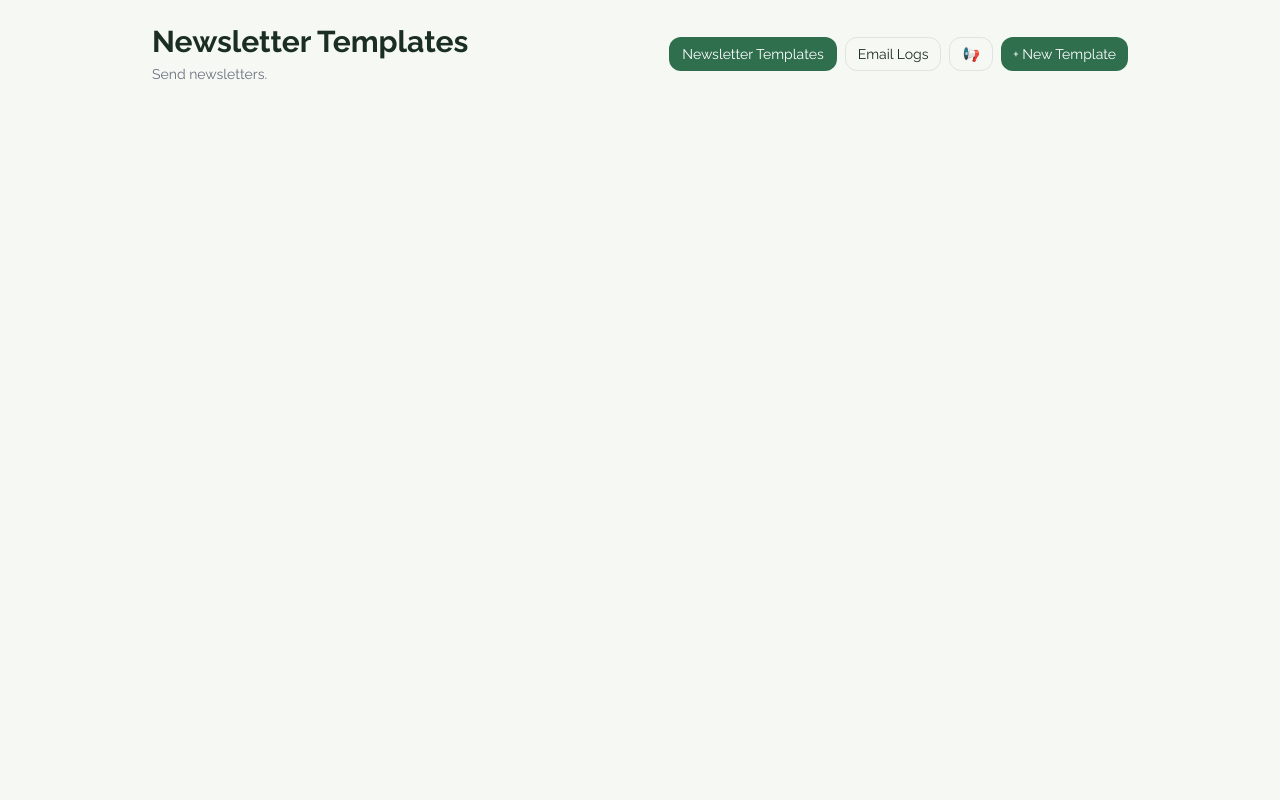
Test: NewsletterPage (template UI) › adds a heading content block when + Heading is clicked in editor
This screenshot has width=1280, height=800.
Step 1. Click the button with test id "new-template-btn" → [1064, 54], box [1001,37,1128,71]
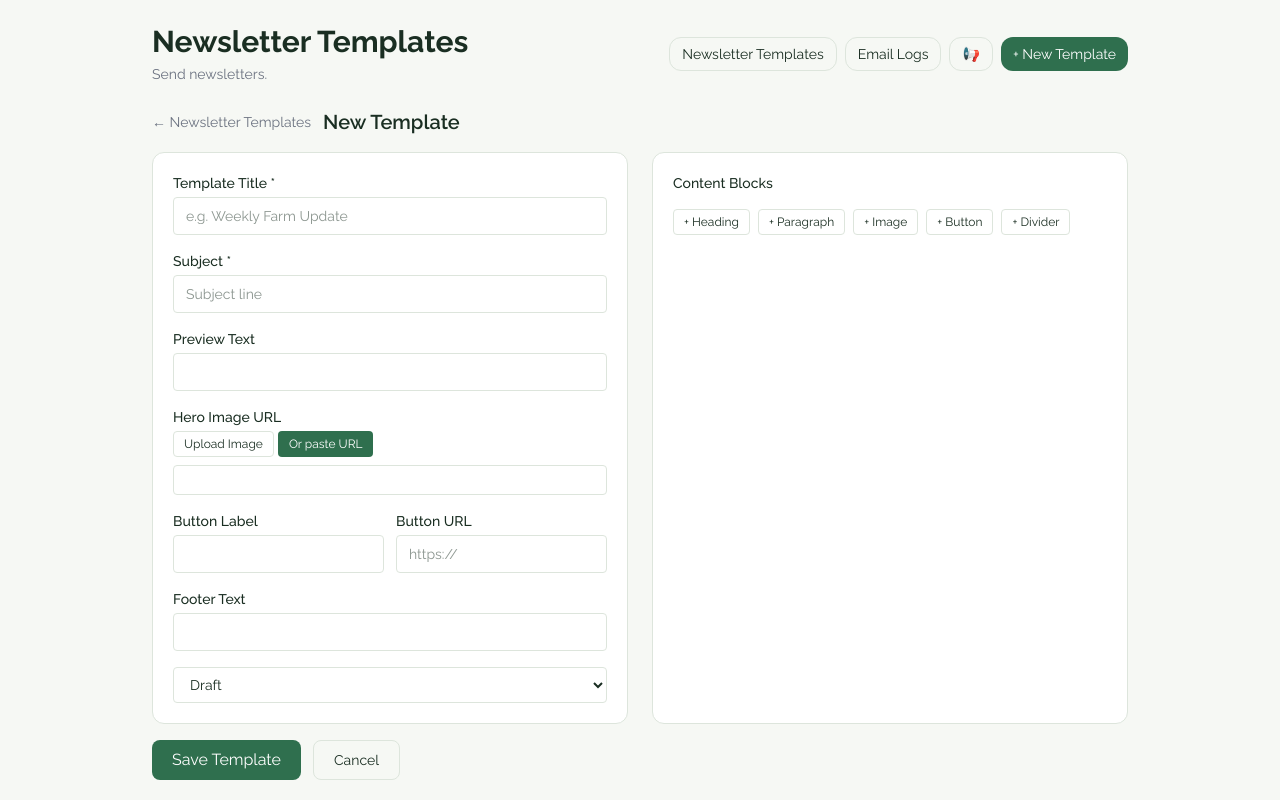
Now the button with test id "add-block-heading" is shown
Step 2. Click the button with test id "add-block-heading" → [711, 222], box [673,209,750,235]
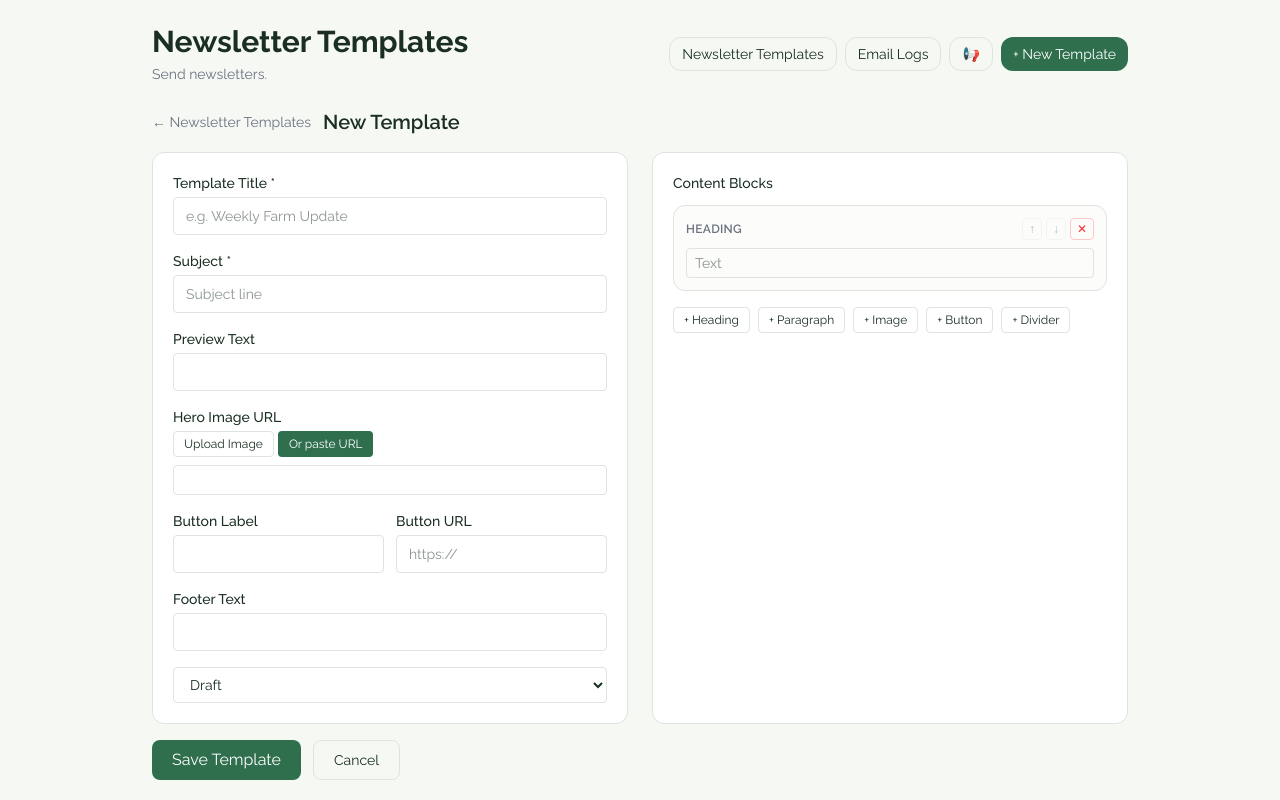
Now the element with test id "block-0" is shown, box [673,205,1107,291]
